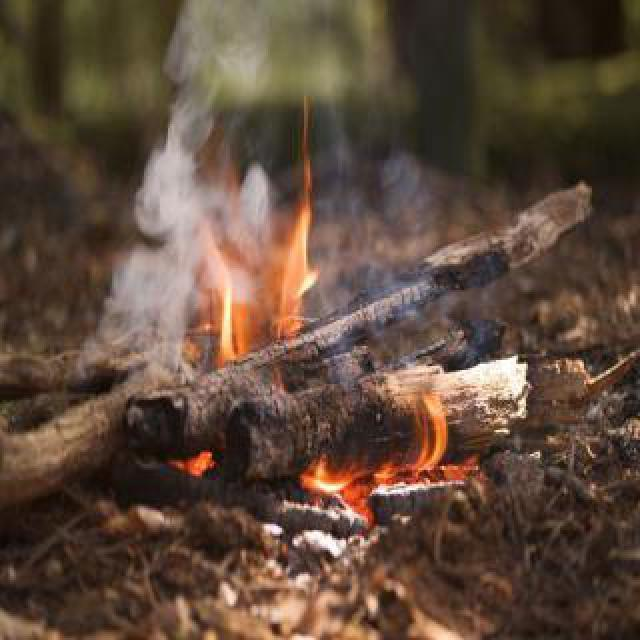Fire: (252, 106, 330, 358), (306, 396, 464, 506), (206, 272, 250, 378)
Smoke: (98, 10, 226, 376)
